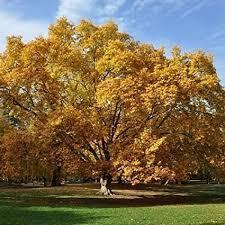tree: (1, 18, 205, 195)
